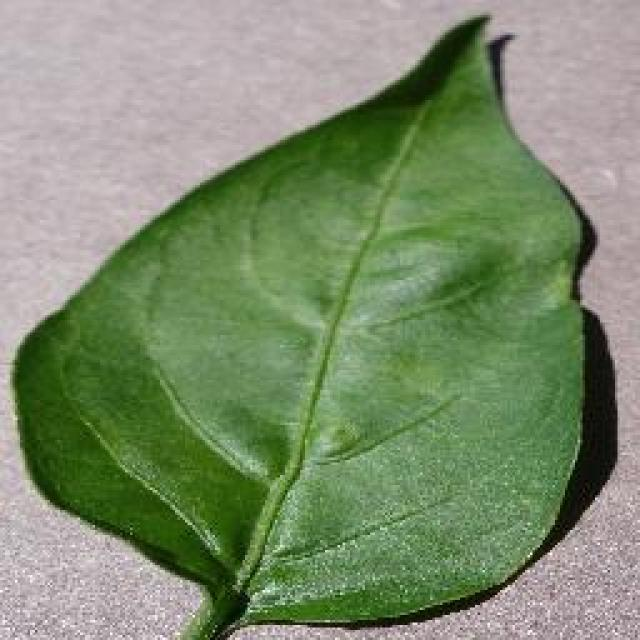Chilli_Healthy: (7, 10, 595, 638)
